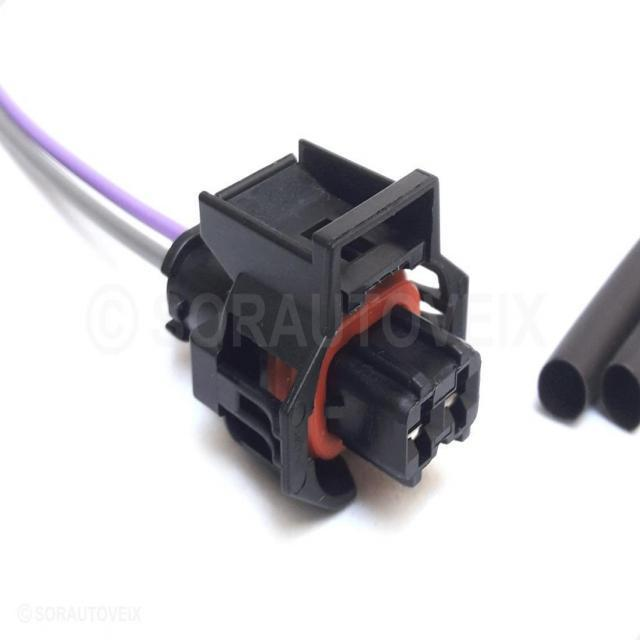connector: (124, 104, 525, 542)
